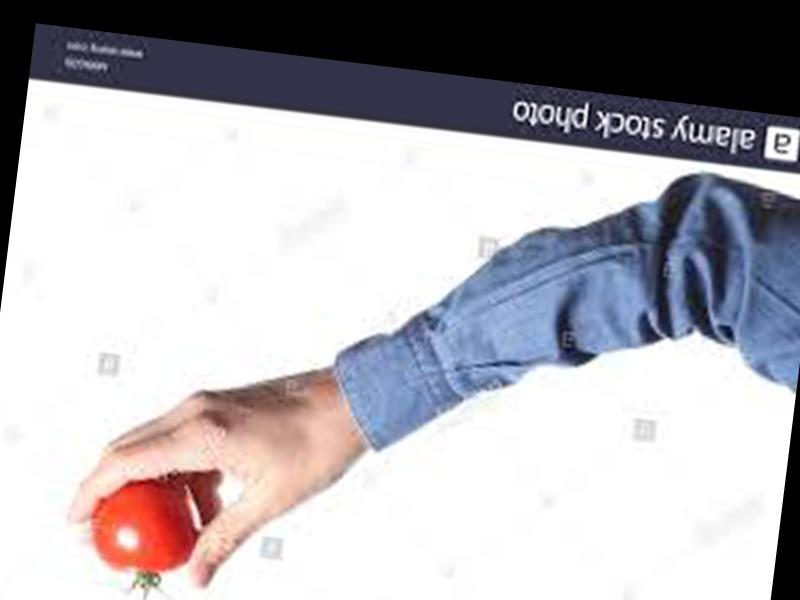Tomato: (85, 477, 199, 576)
